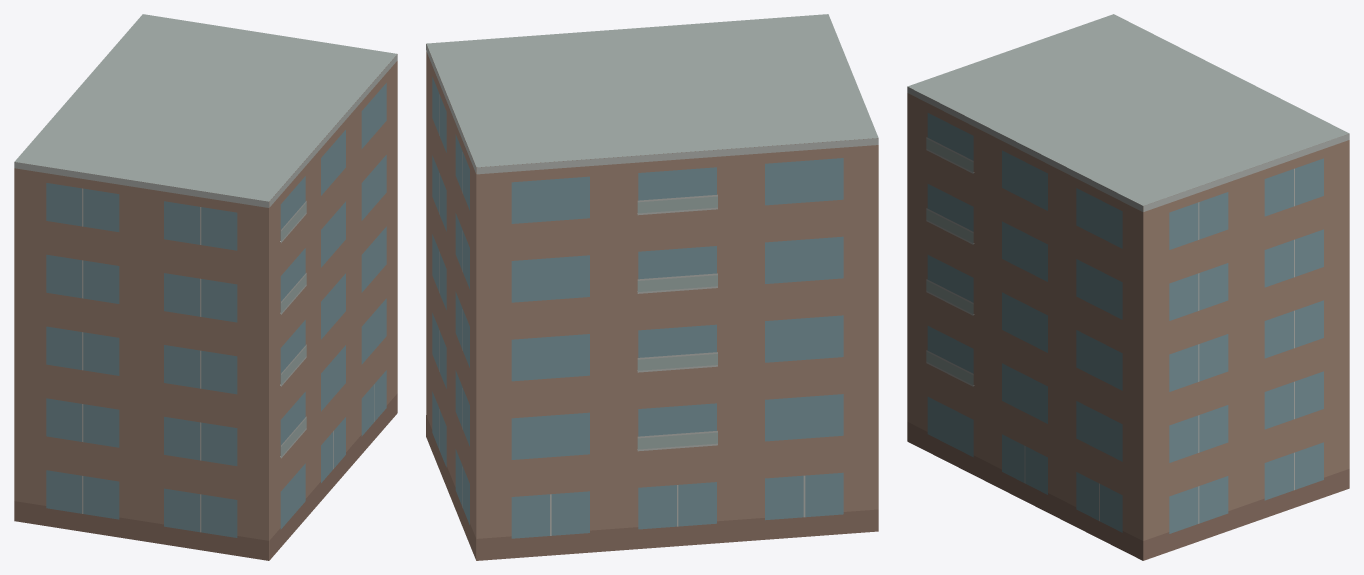
File: survey-upis-32950707.glb
3 views of the same model, side by side, from view 1: azimuth 30°, elevation 25°; view 2: azimuth 150°, elevation 25°; view 3: azimuth 270°, elevation 25° (orthographic). The views are drawn at different scales.
Parts seen in each view (by area): view 1: survey-upis-32950707.tmp; view 2: survey-upis-32950707.tmp; view 3: survey-upis-32950707.tmp.
Part boxes in pixels (x1,y1,x2,y2): survey-upis-32950707.tmp: (14,14,397,560); survey-upis-32950707.tmp: (426,14,878,560); survey-upis-32950707.tmp: (907,14,1349,560).
Bounding box in the file's own units: 15.96 × 13.75 × 15.54.
